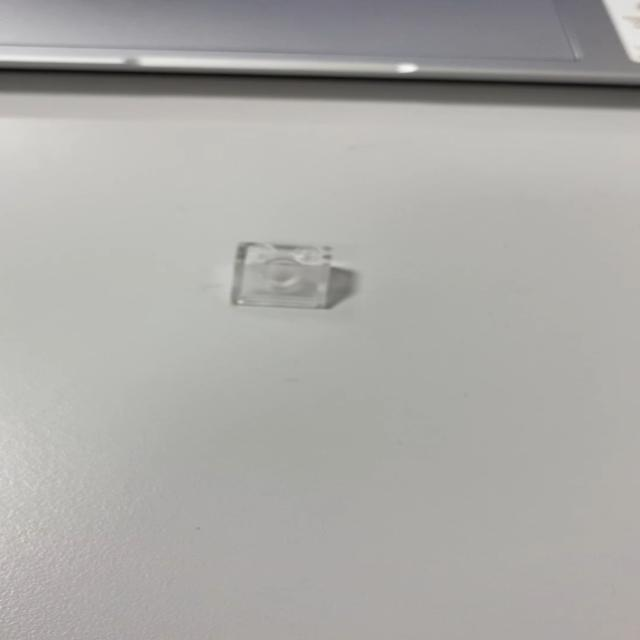P2x2x1: (228, 240, 354, 310)
